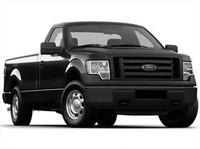car: (2, 22, 200, 130)
